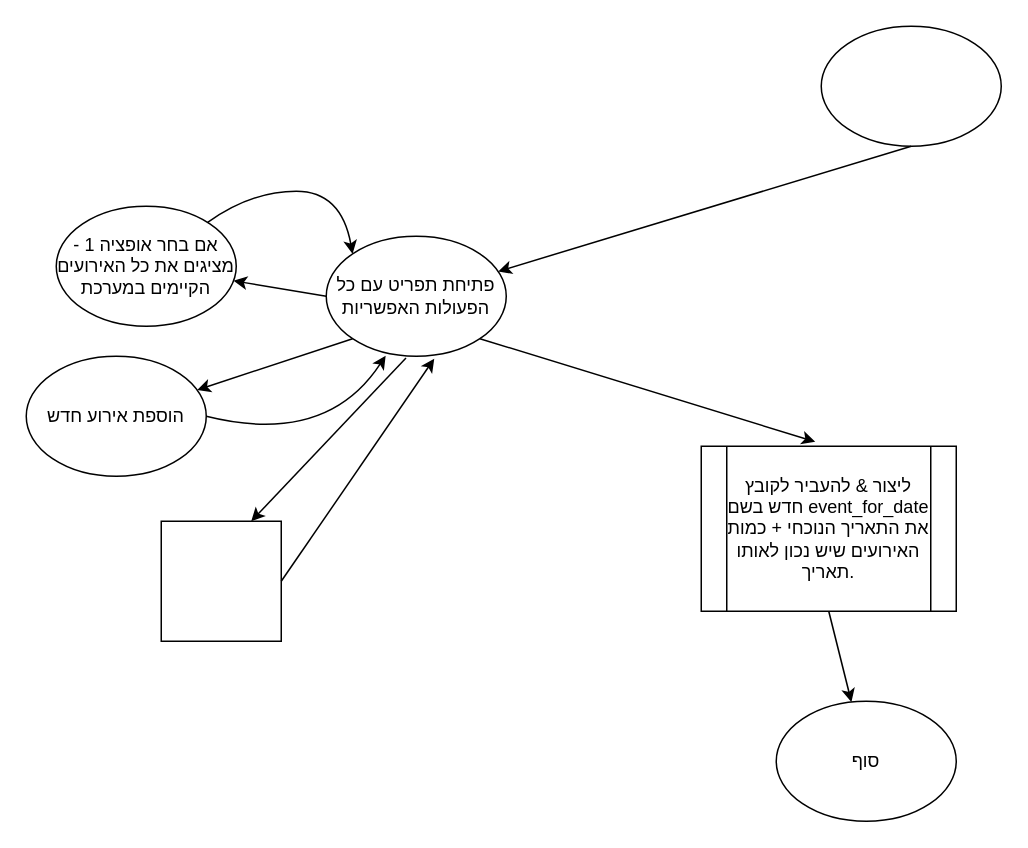
The diagram is 1028 pixels wide and 848 high, and some of its shapes have lost their labels. The shapes that lost their labels are listed below. From the top down, each one's box as (x1, y1, x2, y2) in pixels, then its label:
(820, 25, 1001, 146): התחלה
(160, 520, 281, 641): מחיקת האירוע הקיים
